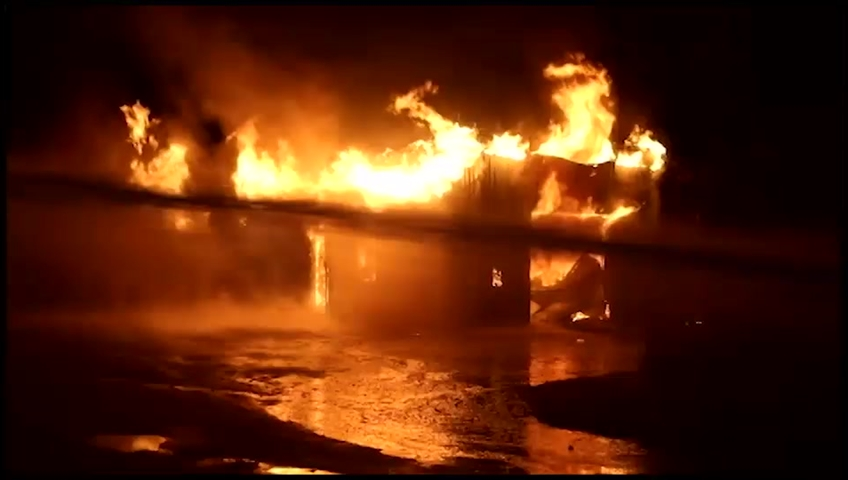fire: (239, 133, 469, 201), (554, 66, 660, 169), (535, 176, 617, 288), (127, 109, 184, 198)
smoke: (198, 7, 410, 139)
